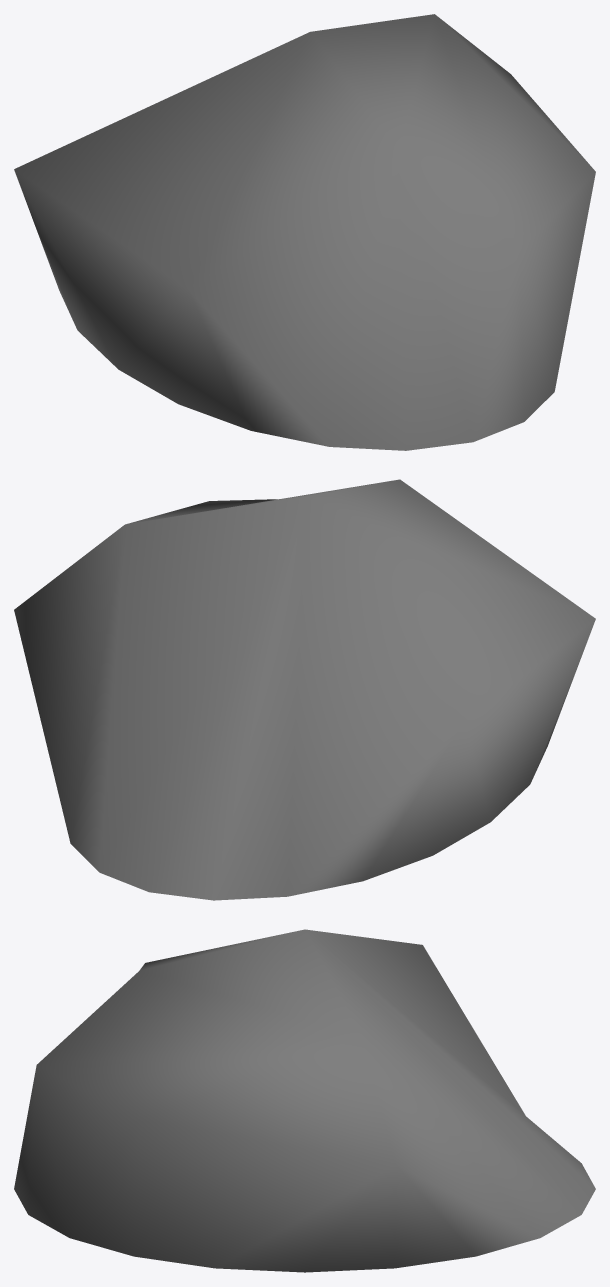
Rendered from Pebble4.fbx.
3 views of the same model, one above another, from view 1: azimuth 30°, elevation 25°; view 2: azimuth 150°, elevation 25°; view 3: azimuth 270°, elevation 25° (orthographic). The views are drawn at different scales.
Parts seen in each view (by area): view 1: Pebble4; view 2: Pebble4; view 3: Pebble4.
Boxes of the visible parts, x1=… form: Pebble4: x1=14, y1=14, x2=595, y2=450; Pebble4: x1=14, y1=479, x2=595, y2=900; Pebble4: x1=14, y1=929, x2=595, y2=1272.
Bounding box in the file's own units: 0.9636 × 0.5558 × 1.13.
